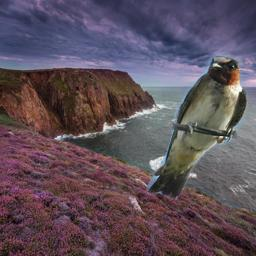Swallow: (145, 53, 248, 200)
